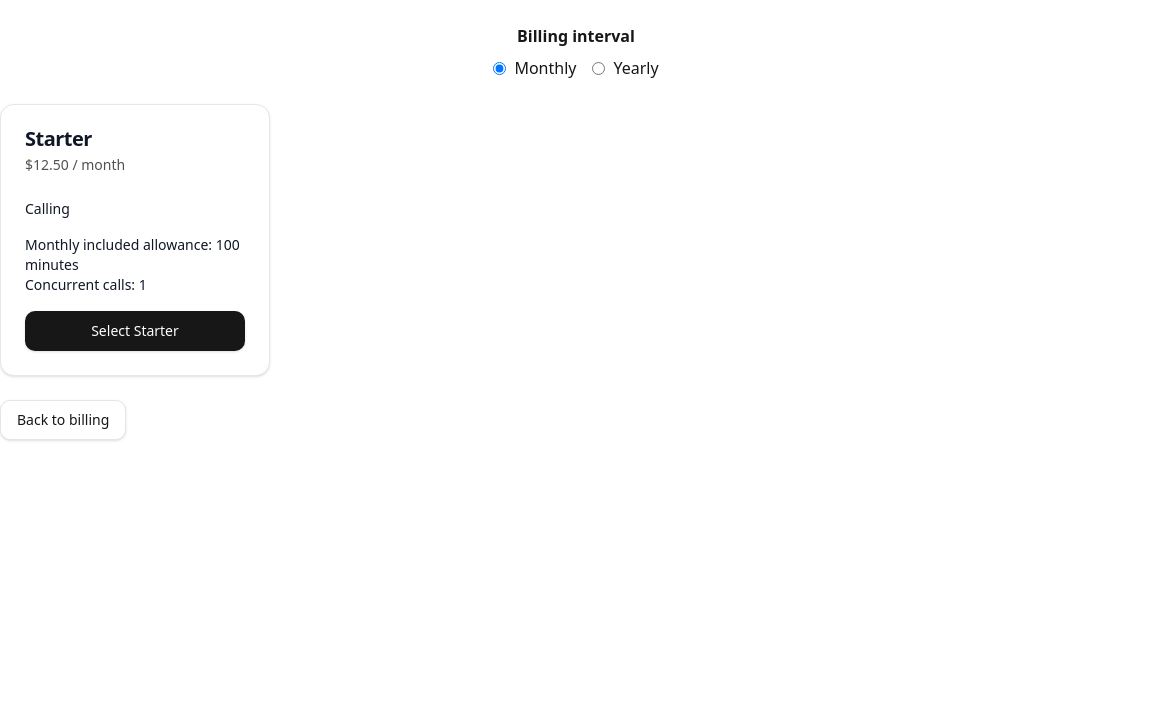
it: malformed outstanding receipt cannot erase the saved request even with pre-insert proof
Click the button "Select Starter" at (135, 331), box [25, 311, 245, 351]
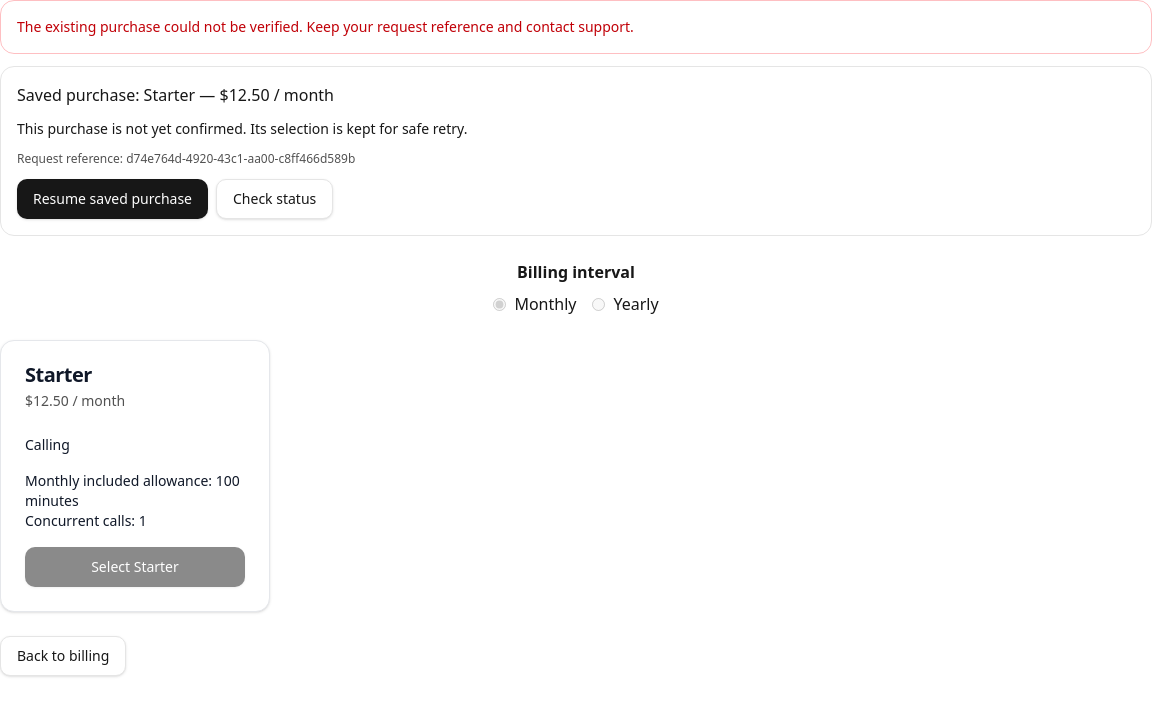
Expected: the text "existing purchase could not be verified" is shown, [17, 17, 634, 36]
Expected: the text "Saved purchase: Starter — $12.50 / month" is shown, [17, 84, 334, 106]
